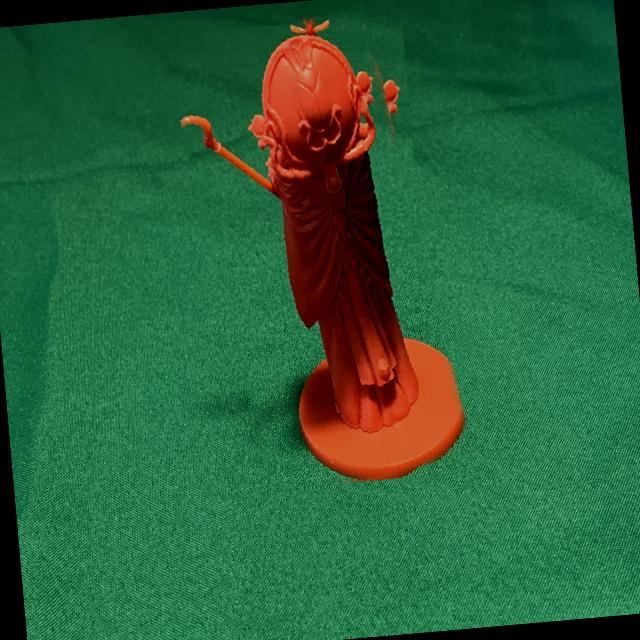amon: (179, 6, 459, 500)
